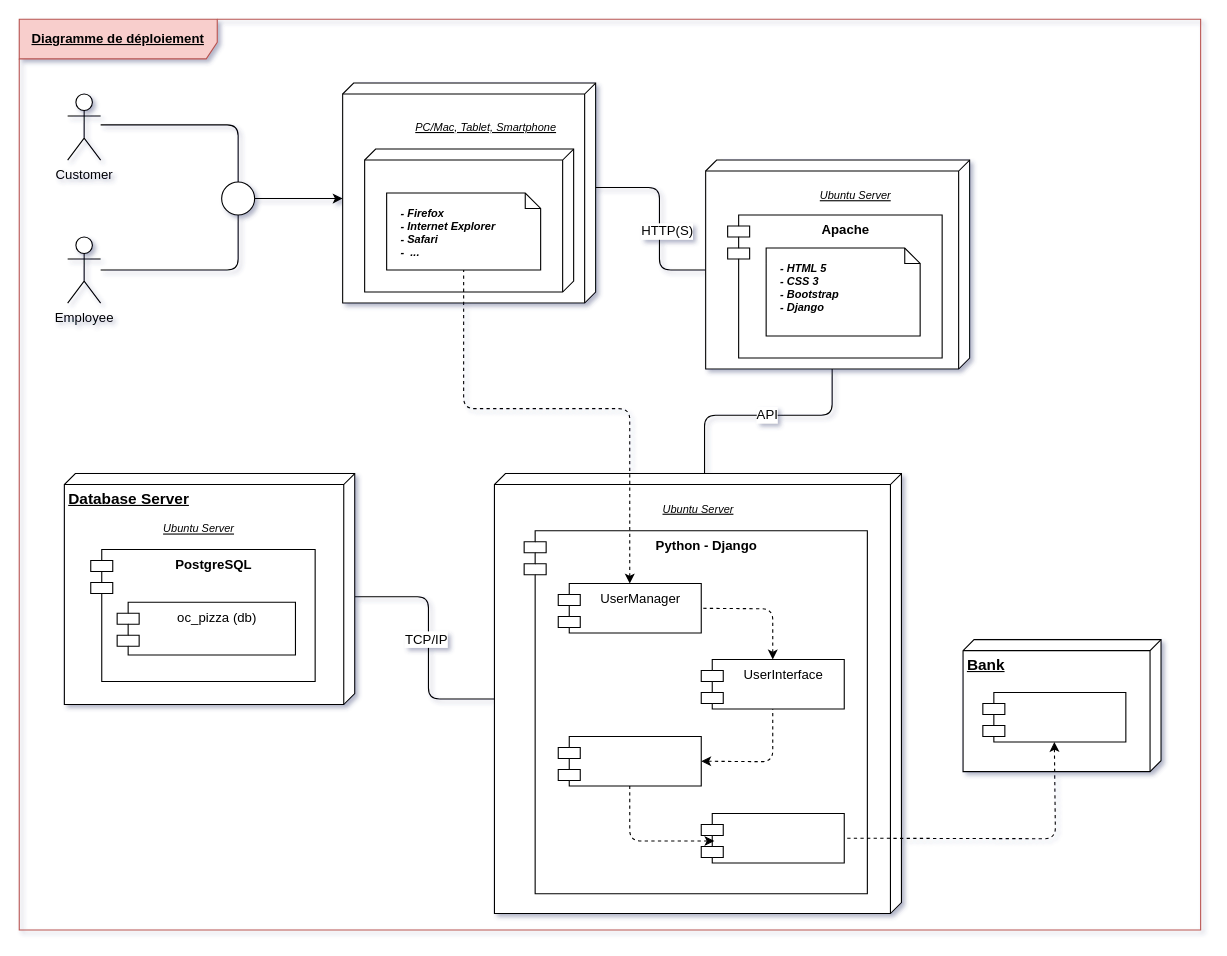
Some shapes in this 1227 by 956 pixel diagram are drawn without their labels. Here are the shapes that lost their labels. From the top down, the box of each, then its label:
(342, 82, 596, 303): Device
(364, 148, 574, 292): Web browser
(705, 159, 970, 369): Web Server
(493, 472, 901, 914): Application Server
(982, 691, 1126, 742): Payment
(557, 735, 701, 786): ProductManager
(700, 812, 844, 863): OrderManager
